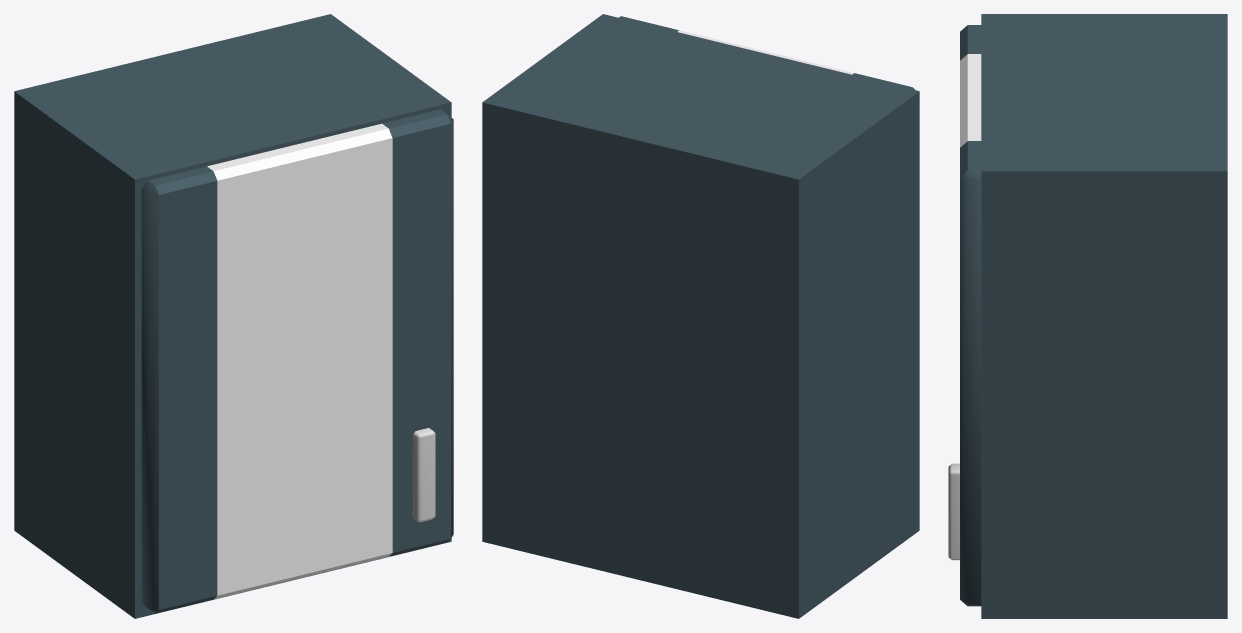
The model's file is kitchen_043.fbx.
3 renders of one model, left to right at view 1: azimuth 30°, elevation 25°; view 2: azimuth 150°, elevation 25°; view 3: azimuth 270°, elevation 25°, orthographic.
Visible parts, largest first — view 1: kitchen_043; view 2: kitchen_043; view 3: kitchen_043.
Boxes of the visible parts, x1,y1,x2,y2 form: kitchen_043: (14,14,453,618); kitchen_043: (482,14,919,618); kitchen_043: (948,14,1227,618).
Bounding box in the file's own units: 75.42 × 56.53 × 100.
